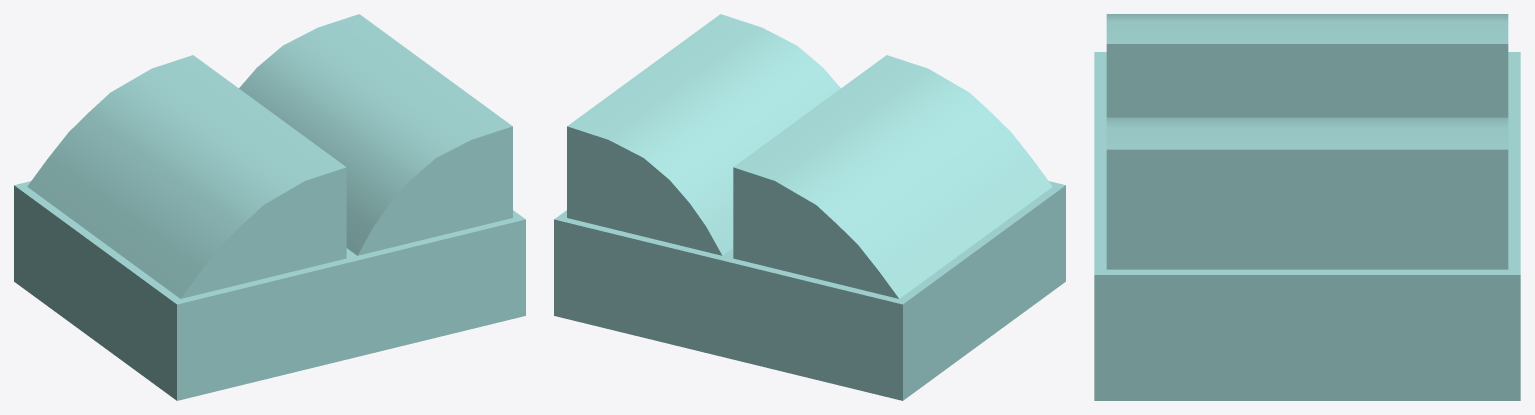
File: House.fbx
3 renders of one model, left to right at view 1: azimuth 30°, elevation 25°; view 2: azimuth 150°, elevation 25°; view 3: azimuth 270°, elevation 25°, orthographic. The views are drawn at different scales.
Visible parts, largest first — view 1: Cube.002; view 2: Cube.002; view 3: Cube.002.
Boxes of the visible parts, bbox=[...] form: Cube.002: bbox=[14, 14, 525, 400]; Cube.002: bbox=[554, 14, 1065, 400]; Cube.002: bbox=[1094, 14, 1520, 400].
Size of the model in its own units: 4200 by 2164 by 3400.
